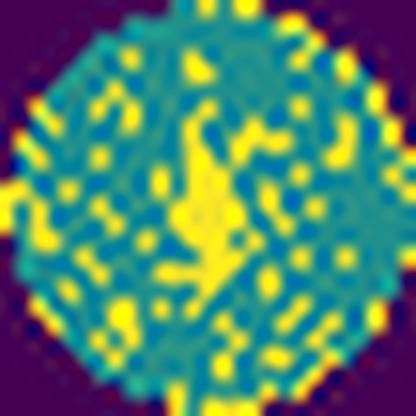Center: (153, 91, 293, 322)
